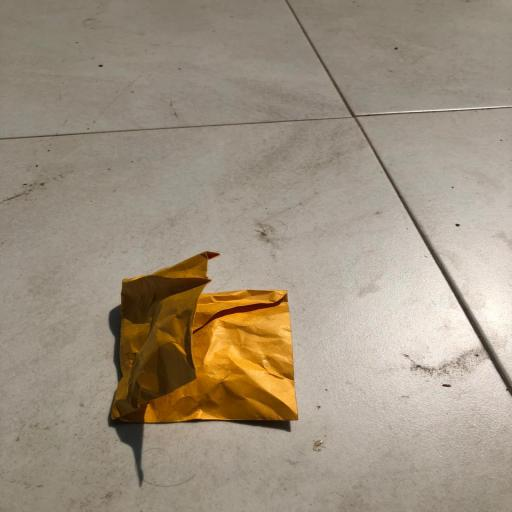waste: (97, 239, 317, 447)
